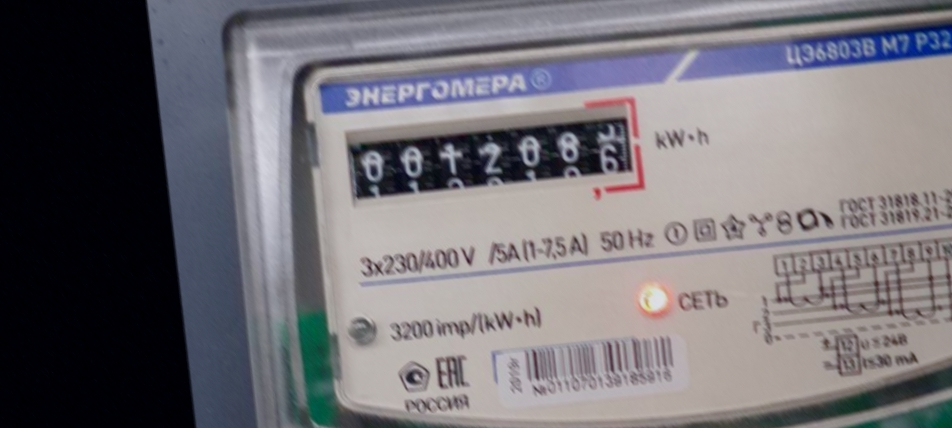0: (399, 140, 426, 180), (516, 131, 544, 168), (361, 145, 385, 184)
1: (440, 138, 461, 177)
2: (477, 138, 507, 176)
6: (595, 138, 622, 175)
8: (554, 127, 581, 166)
screen: (333, 84, 656, 237)
